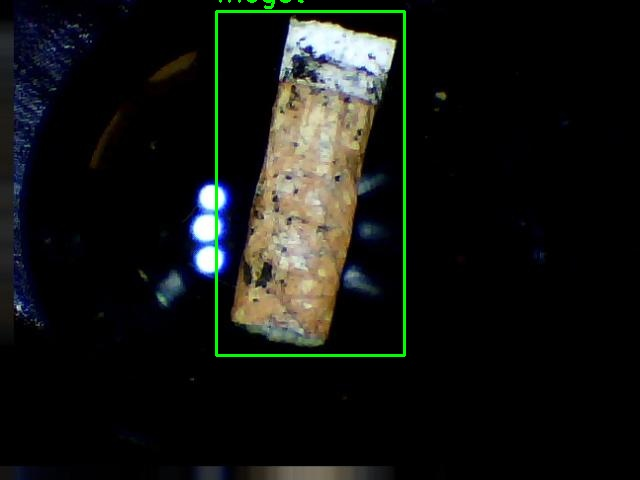megot: (216, 11, 404, 355)
